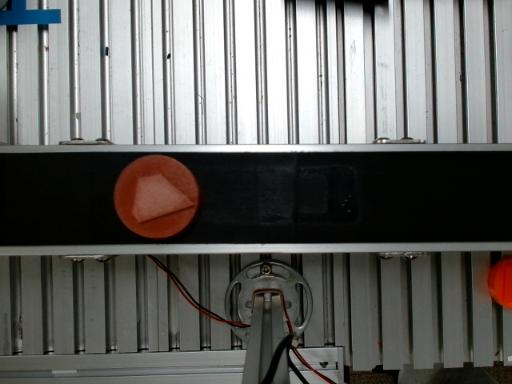Brown_Waper: (114, 155, 199, 238)
Not_Square: (132, 174, 195, 222)
